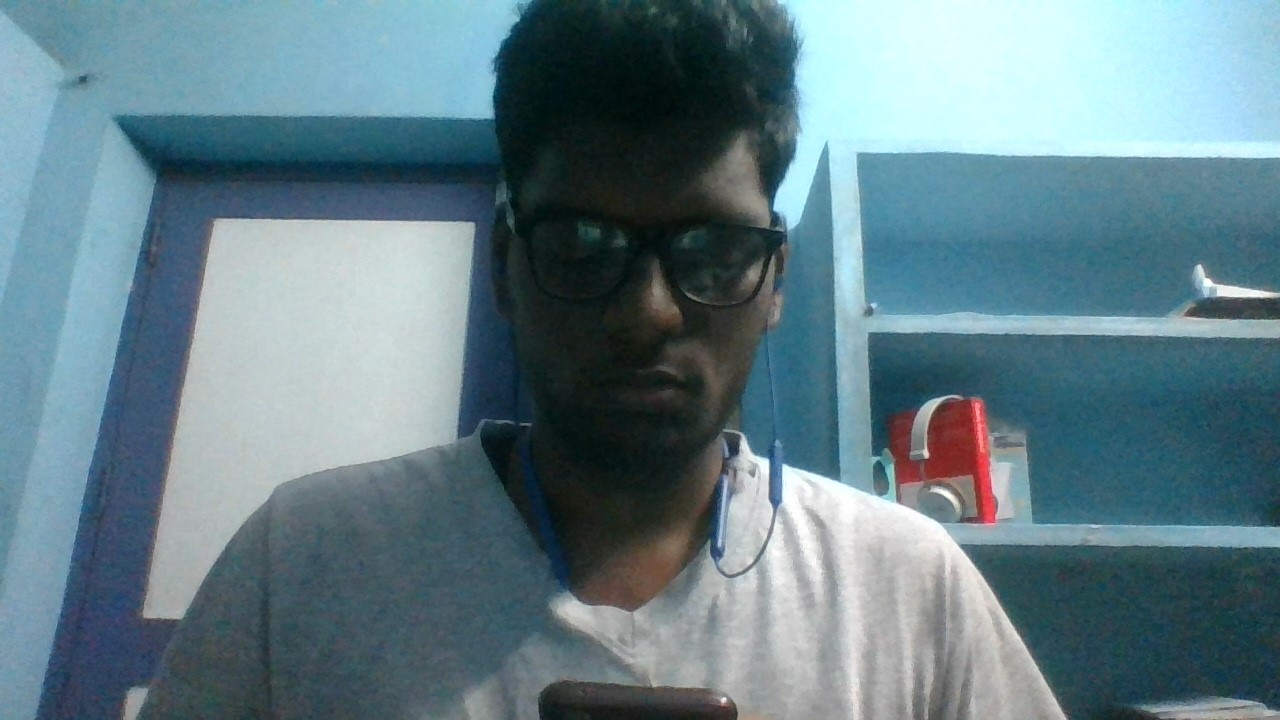mobile phone: (532, 675, 740, 720)
person: (169, 1, 1080, 720)
